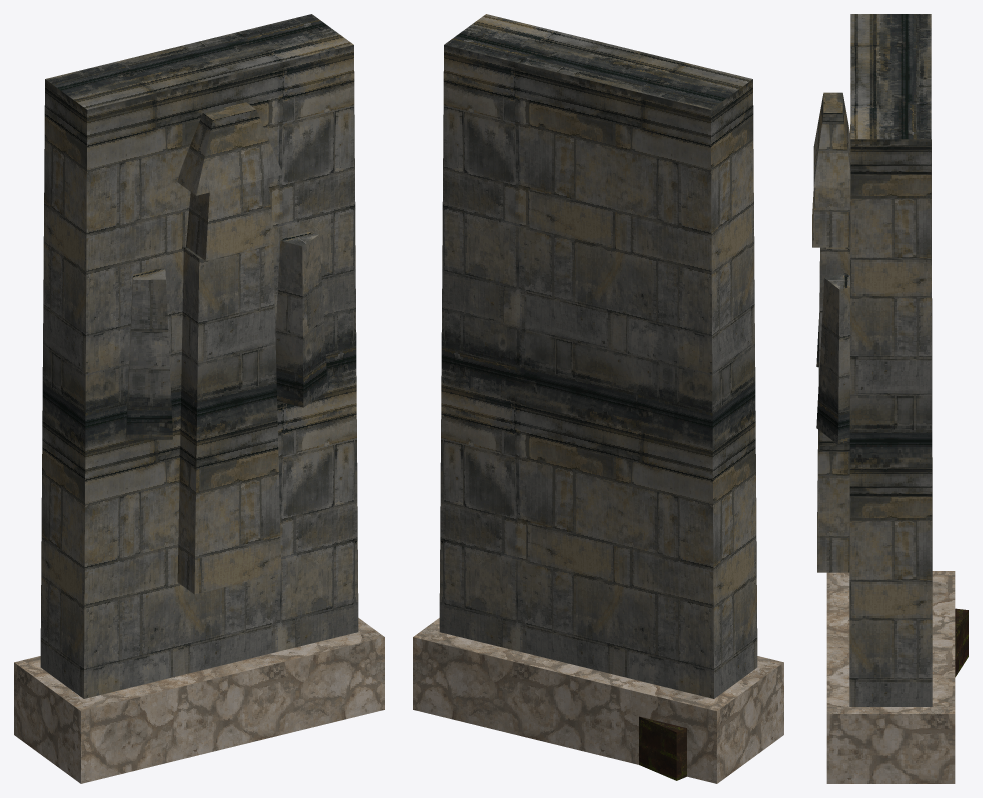
The model's file is temple_statue_apsara_01.glb.
3 renders of one model, left to right at view 1: azimuth 30°, elevation 25°; view 2: azimuth 150°, elevation 25°; view 3: azimuth 270°, elevation 25°, orthographic. The views are drawn at different scales.
Visible parts, largest first — view 1: temple_statue_apsara_01; view 2: temple_statue_apsara_01; view 3: temple_statue_apsara_01.
Part boxes in pixels (left/top/right/bottom): temple_statue_apsara_01: left=14, top=14, right=384, bottom=783; temple_statue_apsara_01: left=413, top=14, right=783, bottom=783; temple_statue_apsara_01: left=812, top=14, right=968, bottom=783.
Size of the model in its own units: 1.05 by 2.18 by 0.487.
Materials: 3 (3 with a texture image).
